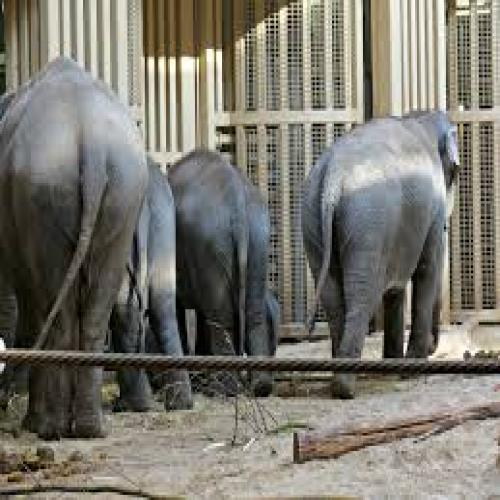asian_elephant-endangered: (0, 47, 147, 435), (298, 113, 458, 395), (162, 155, 277, 390)
